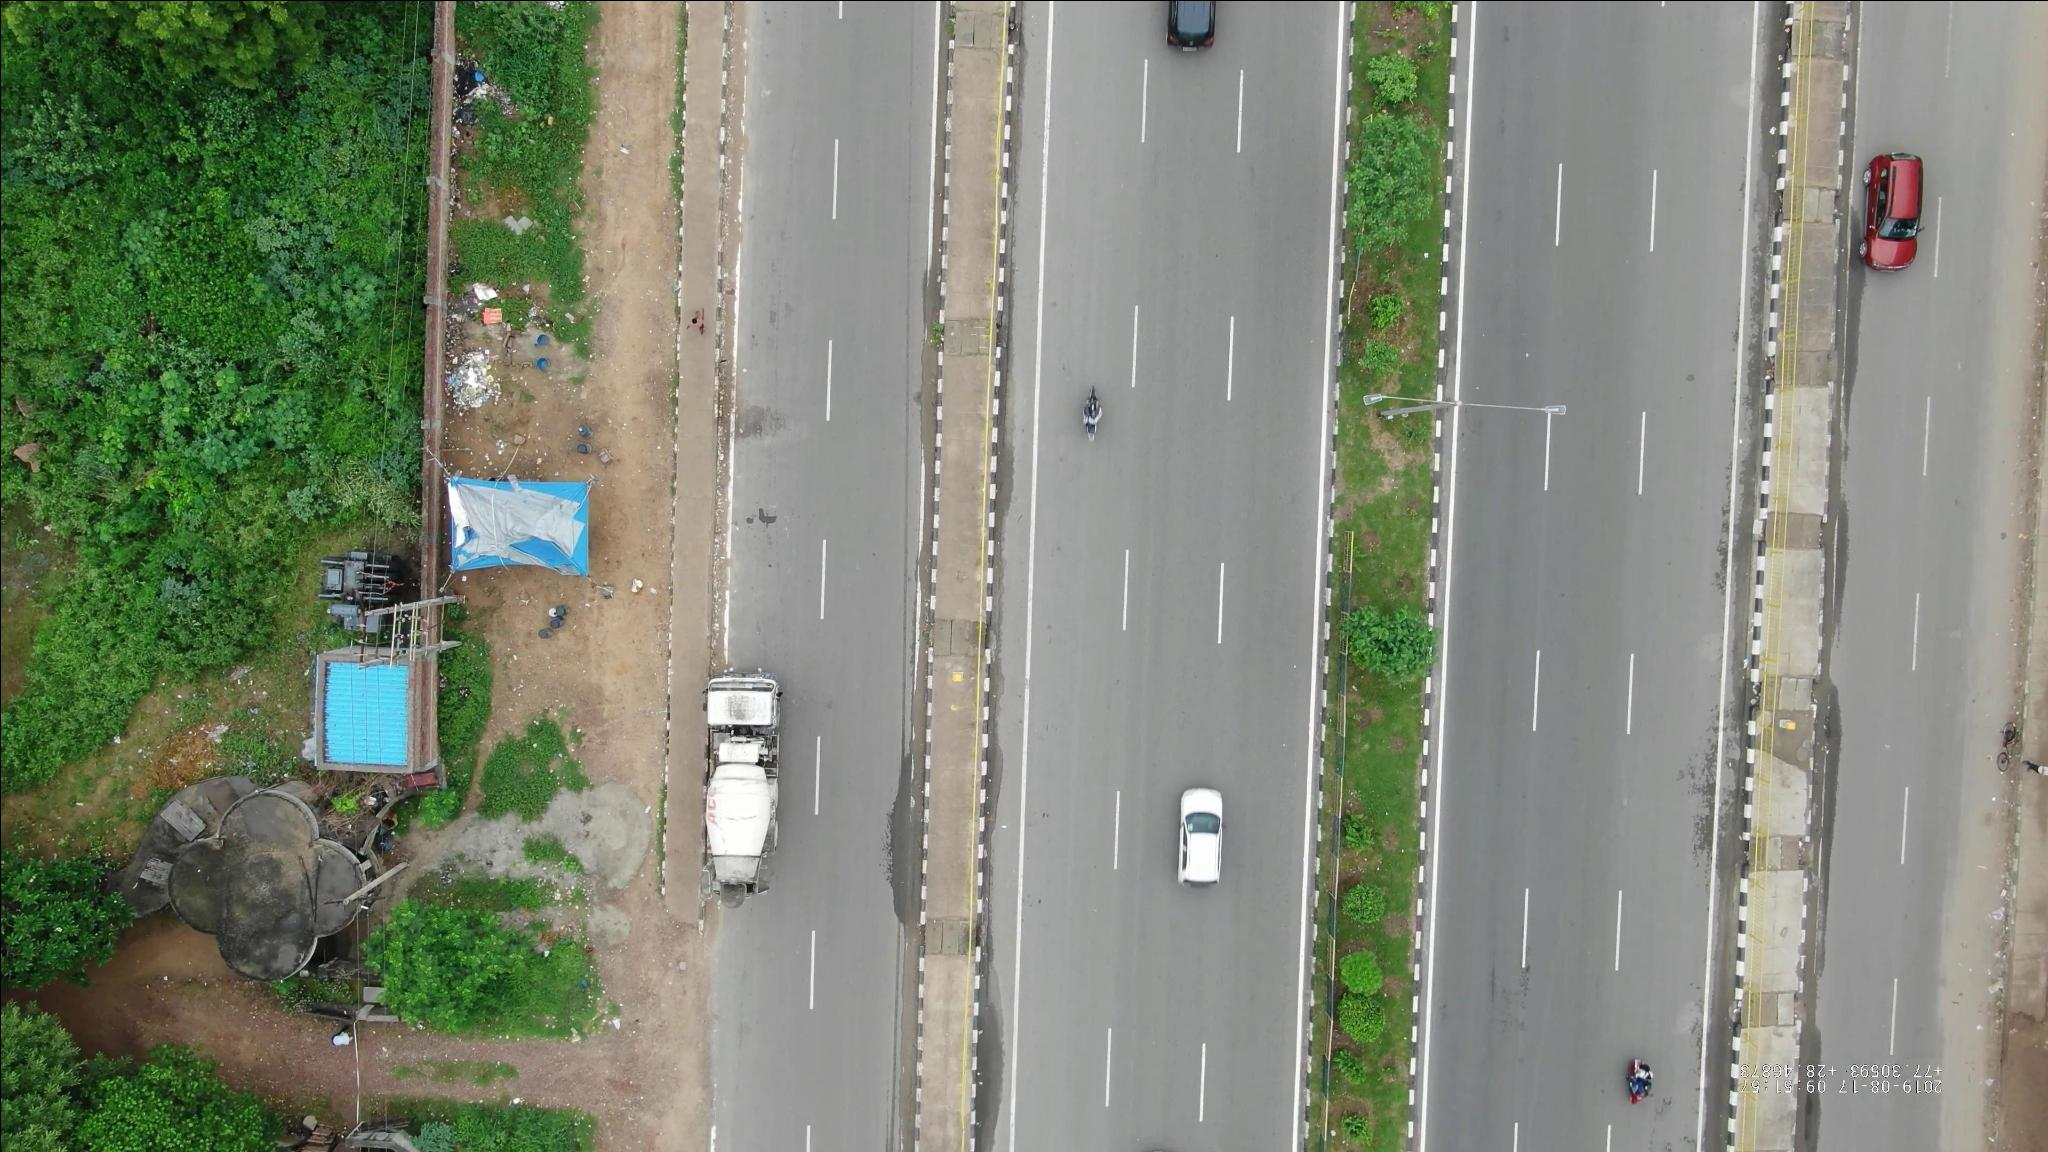Cracks: (731, 392, 798, 450)
